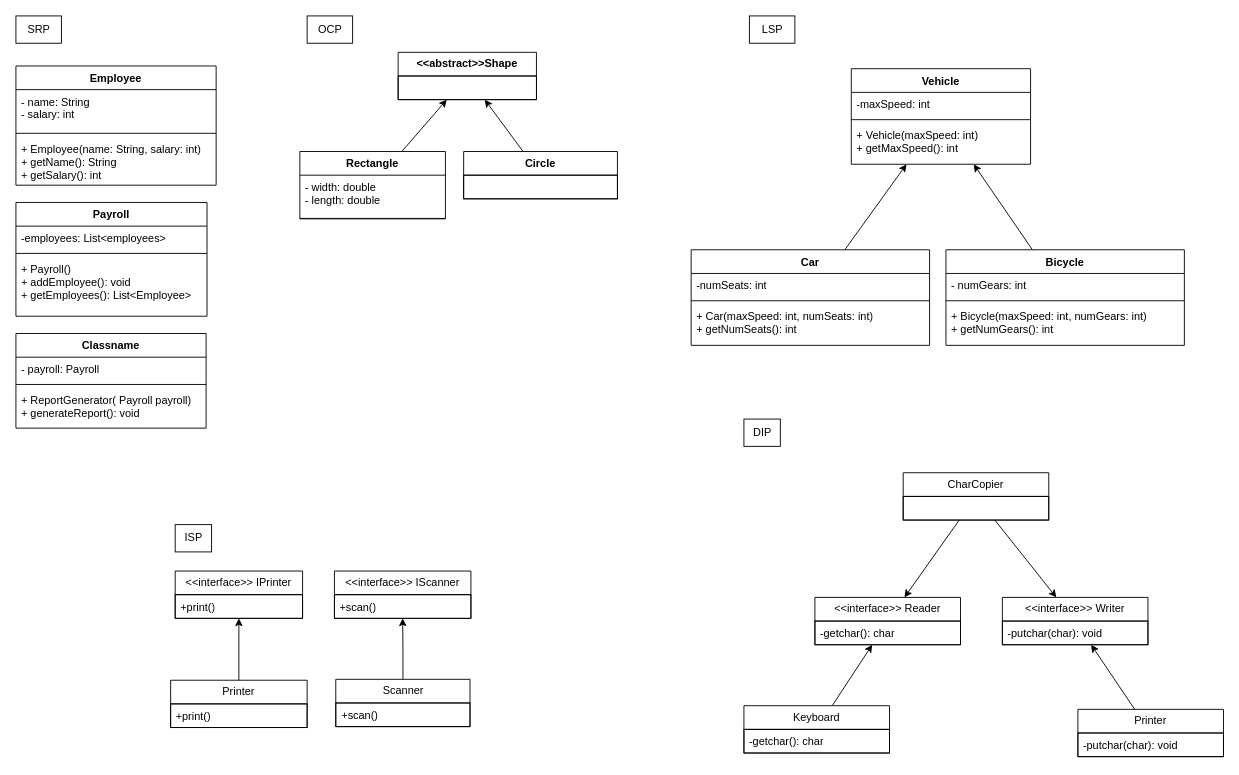
Some shapes in this 1239 by 775 pixel diagram are drawn without their labels. The shapes that lost their labels are listed below. From the top down, each one's centre as x and y in pixels, then its label:
(x=466, y=87): +calculate_area(): double
(x=540, y=186): - radius: double
(x=975, y=507): -copy(Reader, Writer): void
